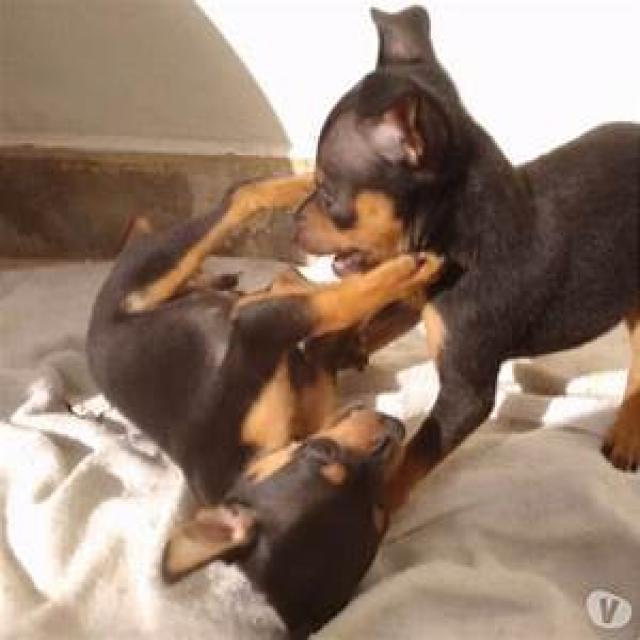animal: (86, 170, 442, 629), (299, 9, 640, 484)
